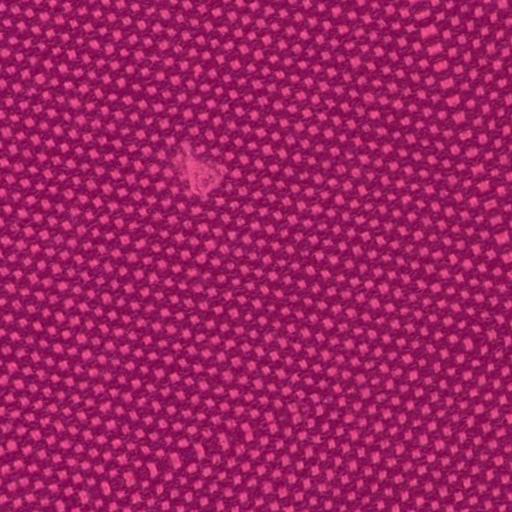knot: (176, 134, 239, 205)
